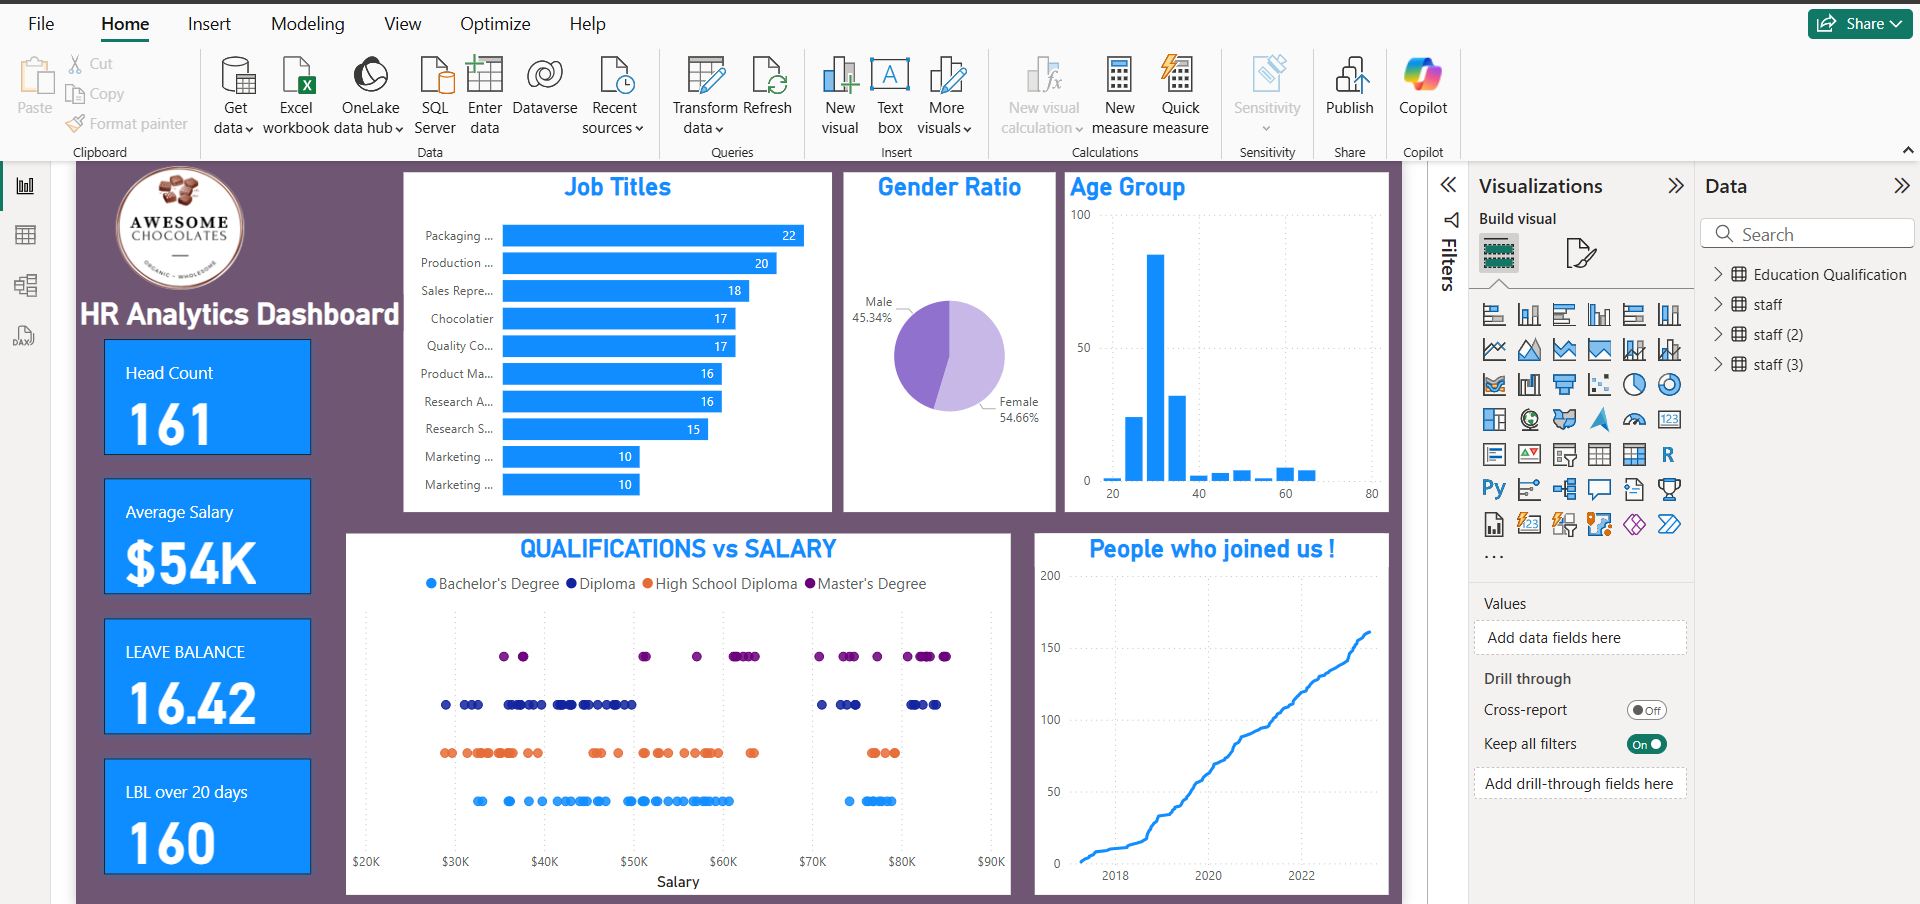

The page's visual inventory and layout, read from the dashboard file:
{"tool":"powerbi","page":{"name":"Page 11","canvas":[1280,720],"ordinal":10},"visuals":[{"type":"cardVisual","fields":{"Data":["staff.Head Count","staff.Average Salary","Education Qualification.LEAVE BALANCE","Education Qualification.LBL over 20 days"]},"box":[10,154.3,234.3,554.3],"z":0},{"type":"clusteredBarChart","title":"Job Titles","fields":{"Y":["staff.Head Count"],"Category":["staff.Job Title"]},"box":[316.1,10.9,413.8,328.2],"z":1000},{"type":"pieChart","title":"Gender Ratio","fields":{"Category":["staff.Gender"],"Y":["staff.Head Count"]},"box":[740.8,10.9,205.1,328.2],"z":2000},{"type":"clusteredColumnChart","title":"Age Group","fields":{"Y":["staff.Head Count"],"Category":["staff.Age (bins)"]},"box":[954.3,10.9,312.5,328.2],"z":3000},{"type":"scatterChart","title":"QUALIFICATIONS vs  SALARY","fields":{"X":["staff.Salary"],"Y":["Education Qualification.Custom"],"Series":["Education Qualification.Column1"]},"box":[260,360,641.4,348.6],"z":4000},{"type":"lineChart","title":"People who joined us !","fields":{"Category":["staff.Date of Join"],"Y":["Education Qualification.cumulative headcount"]},"box":[925.7,360,341.4,348.6],"z":5000},{"type":"image","box":[0,0,200.3,129.1],"z":6000},{"type":"shape","box":[0,129.1,316.1,35],"z":7000}]}

Visuals, with their boxes on the page's 1280x720 design canvas (x1, y1, x2, y2). These are canvas units, not pixel positions in the 1920x904 screenshot, which may show the page scaled, cropped or inside an application window:
cardVisual - staff.Head Count x staff.Average Salary: region(10, 154, 244, 709)
"Job Titles" clusteredBarChart: region(316, 11, 730, 339)
"Gender Ratio" pieChart: region(741, 11, 946, 339)
"Age Group" clusteredColumnChart: region(954, 11, 1267, 339)
"QUALIFICATIONS vs  SALARY" scatterChart: region(260, 360, 901, 709)
"People who joined us !" lineChart: region(926, 360, 1267, 709)
image: region(0, 0, 200, 129)
shape: region(0, 129, 316, 164)
